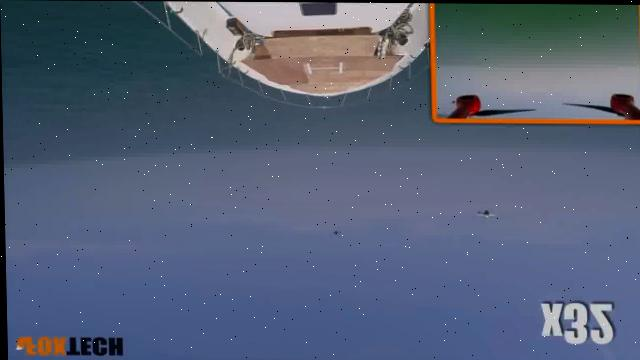drone: (471, 201, 500, 223), (326, 225, 350, 243)
